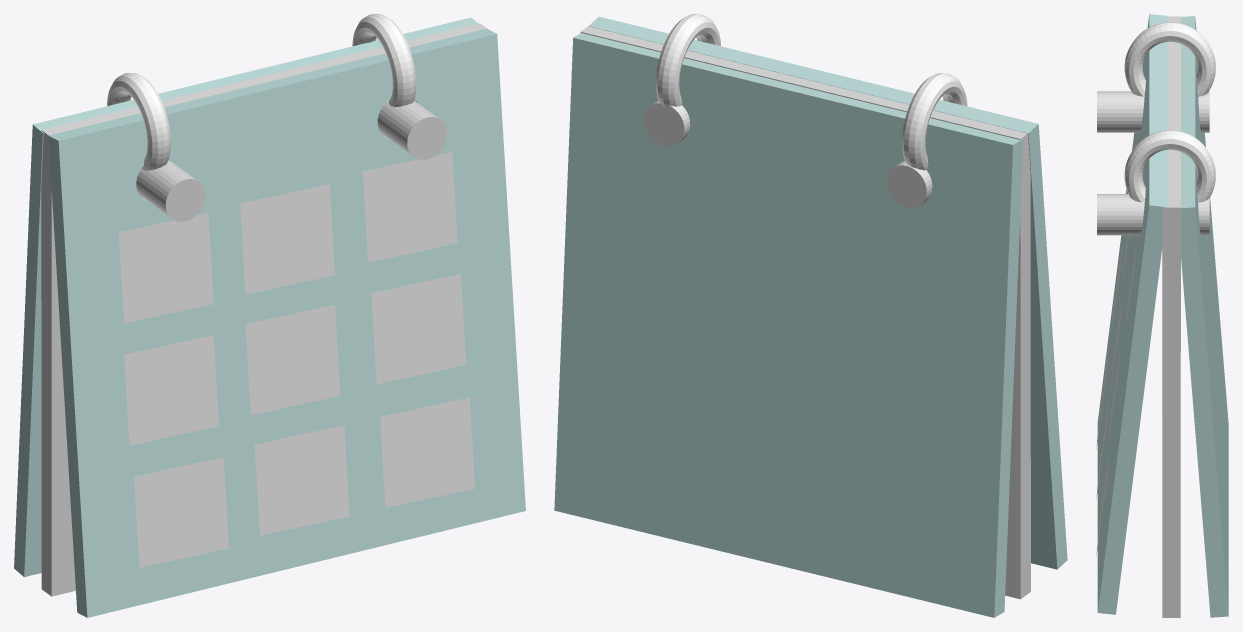
File: calendar.glb
3 views of the same model, side by side, from view 1: azimuth 30°, elevation 25°; view 2: azimuth 150°, elevation 25°; view 3: azimuth 270°, elevation 25° (orthographic). The views are drawn at different scales.
Parts seen in each view (by area): view 1: 立方体, 立方体.001, 立方体.002, 平面.003, 平面.001, 平面.005, 平面.008, 平面.007, 平面.006, 平面.004, 平面, 平面.002 (+4 smaller); view 2: 立方体.002, 立方体, 立方体.001, トーラス.001, トーラス, 円柱.001, 円柱.002; view 3: 立方体, 立方体.002, 立方体.001, トーラス.001, トーラス, 円柱.001, 円柱.002, 平面, 平面.003, 平面.008, 平面.005, 平面.006 (+2 smaller).
Boxes of the visible parts, x1,y1,x2,y2 form: 立方体: (48,28,525,617); 立方体.001: (41,23,487,596); 立方体.002: (14,17,477,577); 平面.003: (371,274,466,384); 平面.001: (240,184,334,294); 平面.005: (245,304,340,414); 平面.008: (134,457,228,567); 平面.007: (254,425,349,535); 平面.006: (380,397,474,507); 平面.004: (124,335,218,445); 平面: (362,152,457,262); 平面.002: (119,213,213,323); 立方体.002: (554,33,1023,617); 立方体: (589,16,1067,569); 立方体.001: (580,26,1030,599); トーラス.001: (902,73,967,170); トーラス: (656,14,720,106); 円柱.001: (886,161,932,208); 円柱.002: (644,100,690,146); 立方体: (1097,14,1167,614); 立方体.002: (1181,16,1228,617); 立方体.001: (1162,16,1180,617); トーラス.001: (1124,22,1215,96); トーラス: (1124,130,1215,202); 円柱.001: (1097,91,1209,132); 円柱.002: (1097,194,1209,235); 平面: (1123,235,1137,344); 平面.003: (1107,336,1121,448); 平面.008: (1096,339,1110,448); 平面.005: (1110,285,1123,394); 平面.006: (1096,445,1110,556).
Bounding box in the file's own units: 2 × 2.16 × 0.5854.
